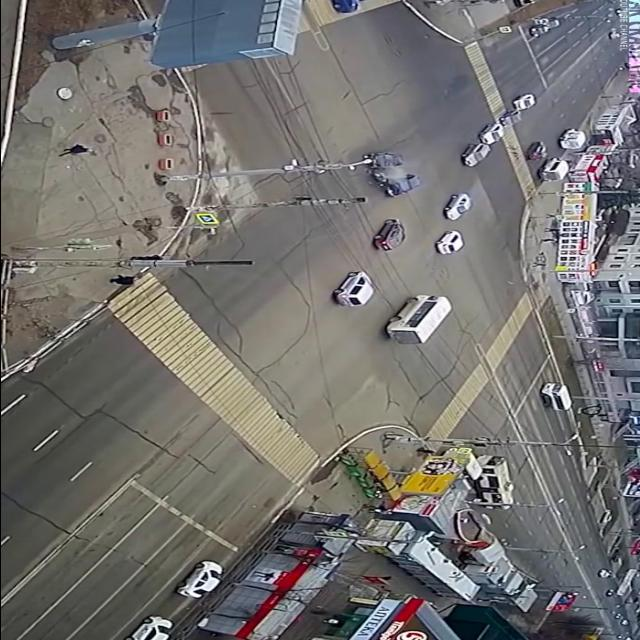accident: (352, 148, 430, 200)
non_accident: (454, 91, 543, 170)
